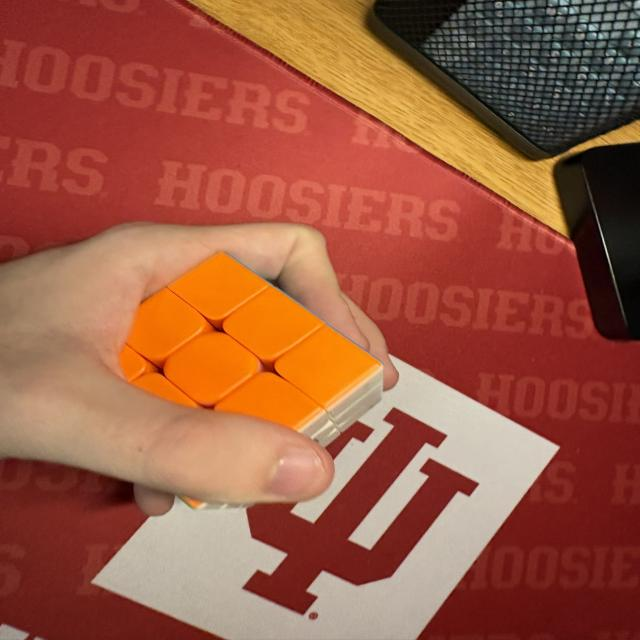Rubiks Cube: (115, 251, 384, 448), (178, 495, 254, 511)
